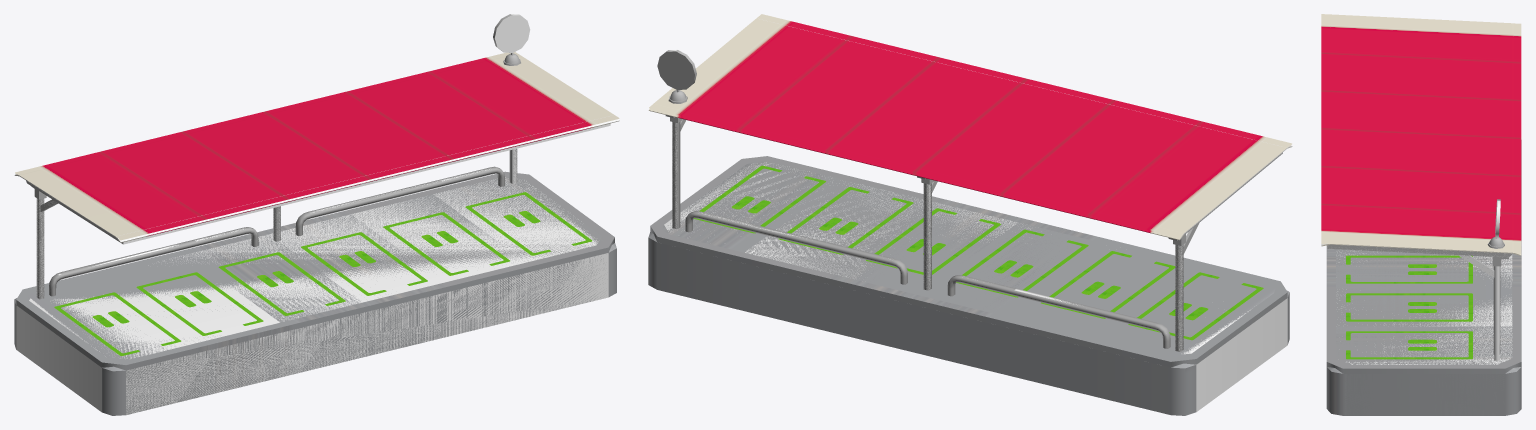
File: objects_un_parking02.gltf
3 views of the same model, side by side, from view 1: azimuth 30°, elevation 25°; view 2: azimuth 150°, elevation 25°; view 3: azimuth 270°, elevation 25° (orthographic). The views are drawn at different scales.
Visible parts, largest first — view 1: um_objects_un_parking02_model_lod0Shape:objects_un_parking02 (×3), um_objects_un_parking02_model_lod2Shape:objects_un_parking02 (×2), um_objects_un_parking02_model_lod1Shape:objects_un_parking02 (×2), nomerge_objects_un_parking02_line02_shape:objects_un_parking, nomerge_objects_un_parking02_framework02_shape:objects_un_pa; view 2: um_objects_un_parking02_model_lod0Shape:objects_un_parking02 (×3), um_objects_un_parking02_model_lod2Shape:objects_un_parking02 (×2), um_objects_un_parking02_model_lod1Shape:objects_un_parking02, nomerge_objects_un_parking02_framework02_shape:objects_un_pa, nomerge_objects_un_parking02_line02_shape:objects_un_parking, nomerge_objects_un_parking02_signboard02_shape:objects_un_pa; view 3: um_objects_un_parking02_model_lod0Shape:objects_un_parking02 (×3), um_objects_un_parking02_model_lod2Shape:objects_un_parking02 (×2), um_objects_un_parking02_model_lod1Shape:objects_un_parking02, nomerge_objects_un_parking02_line02_shape:objects_un_parking, nomerge_objects_un_parking02_framework02_shape:objects_un_pa.
Boxes of the visible parts, x1=… form: um_objects_un_parking02_model_lod0Shape:objects_un_parking02 (×3): x1=14, y1=14, x2=619, y2=415; um_objects_un_parking02_model_lod2Shape:objects_un_parking02 (×2): x1=15, y1=52, x2=619, y2=414; um_objects_un_parking02_model_lod1Shape:objects_un_parking02 (×2): x1=15, y1=121, x2=616, y2=414; nomerge_objects_un_parking02_line02_shape:objects_un_parking: x1=54, y1=192, x2=592, y2=355; nomerge_objects_un_parking02_framework02_shape:objects_un_pa: x1=26, y1=149, x2=517, y2=299; um_objects_un_parking02_model_lod0Shape:objects_un_parking02 (×3): x1=648, y1=18, x2=1292, y2=415; um_objects_un_parking02_model_lod2Shape:objects_un_parking02 (×2): x1=649, y1=14, x2=1291, y2=367; um_objects_un_parking02_model_lod1Shape:objects_un_parking02: x1=670, y1=162, x2=1273, y2=306; nomerge_objects_un_parking02_framework02_shape:objects_un_pa: x1=665, y1=115, x2=1282, y2=351; nomerge_objects_un_parking02_line02_shape:objects_un_parking: x1=693, y1=165, x2=1263, y2=340; nomerge_objects_un_parking02_signboard02_shape:objects_un_pa: x1=657, y1=50, x2=696, y2=103; um_objects_un_parking02_model_lod0Shape:objects_un_parking02 (×3): x1=1321, y1=14, x2=1521, y2=415; um_objects_un_parking02_model_lod2Shape:objects_un_parking02 (×2): x1=1321, y1=14, x2=1521, y2=373; um_objects_un_parking02_model_lod1Shape:objects_un_parking02: x1=1336, y1=249, x2=1507, y2=415; nomerge_objects_un_parking02_line02_shape:objects_un_parking: x1=1346, y1=255, x2=1472, y2=359; nomerge_objects_un_parking02_framework02_shape:objects_un_pa: x1=1327, y1=244, x2=1512, y2=354.
Size of what is drawn, in the model's own units: 18.03 by 7.31 by 6.47.
6 materials, 5 textured.
